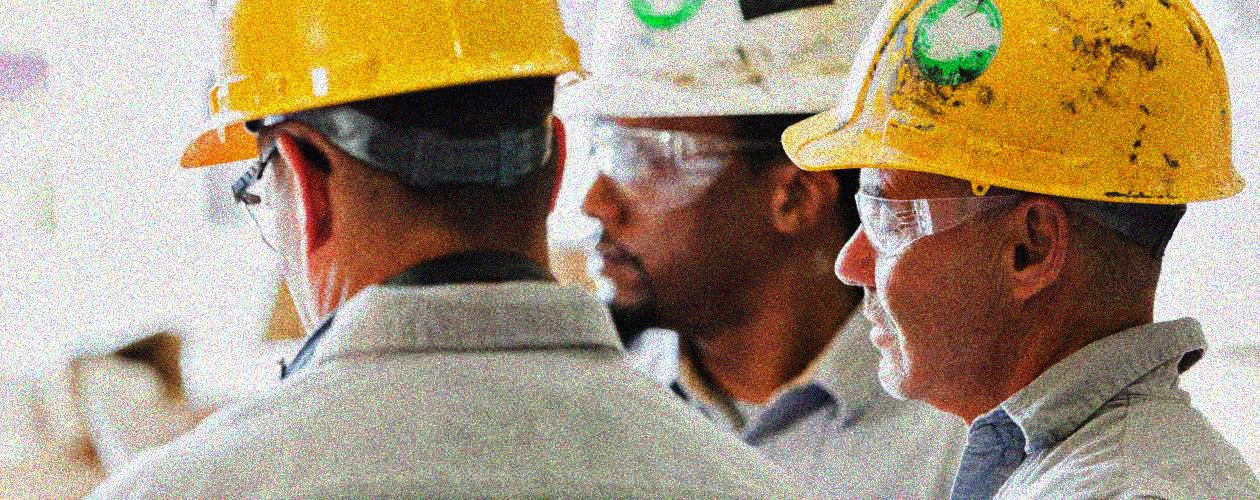helmet: (784, 1, 1248, 395), (179, 1, 580, 318), (578, 3, 884, 309)
